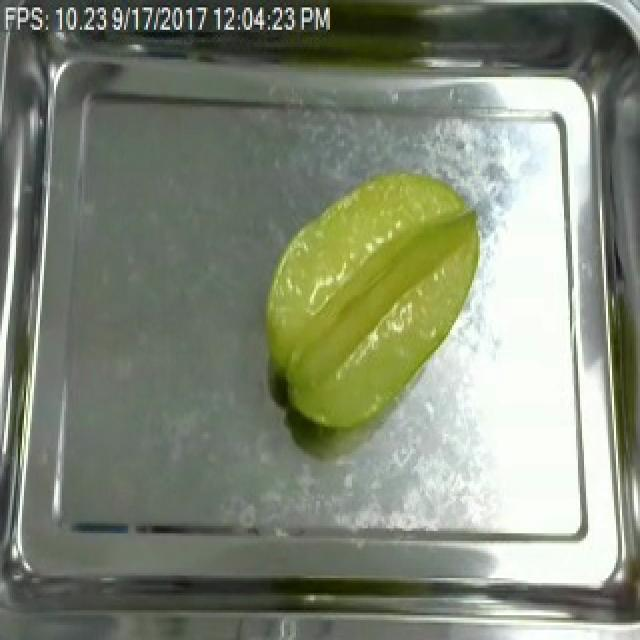fruit: (248, 164, 492, 442)
